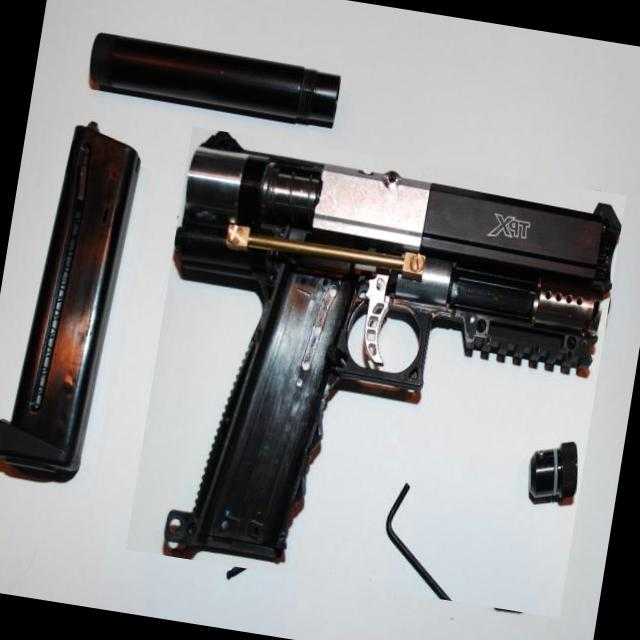Gun: (165, 132, 621, 564)
